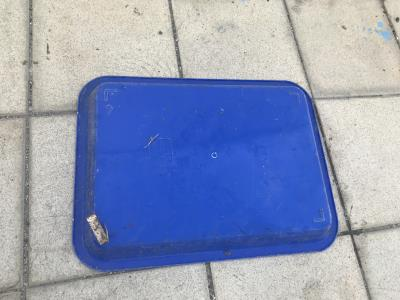box: (69, 74, 342, 275)
